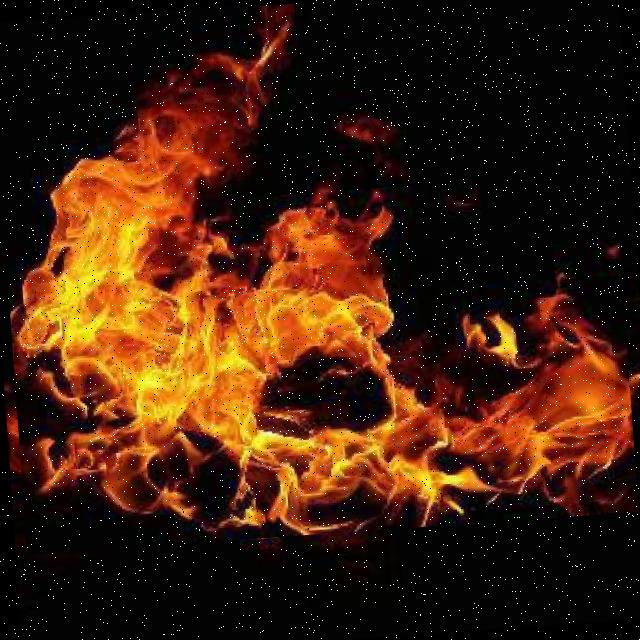fire: (0, 0, 638, 554)
